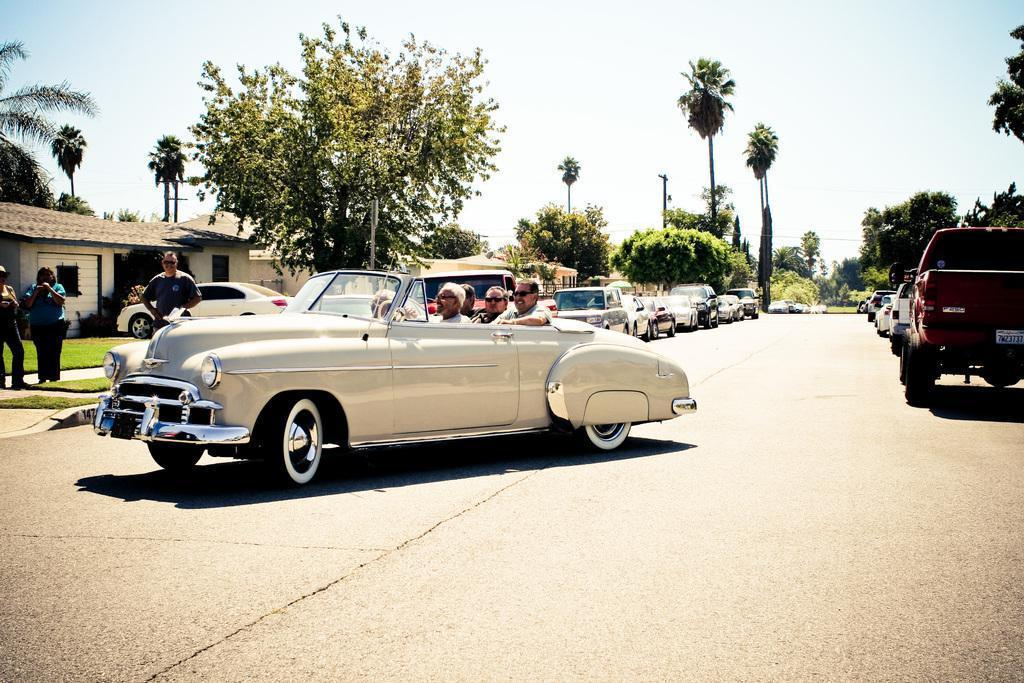Car: (98, 265, 777, 446), (552, 234, 664, 341), (673, 252, 797, 331), (212, 255, 349, 301)
Person: (22, 232, 75, 412), (134, 222, 208, 312), (471, 255, 509, 329), (507, 269, 547, 332), (429, 269, 462, 328)
Truck: (881, 213, 1024, 442)
